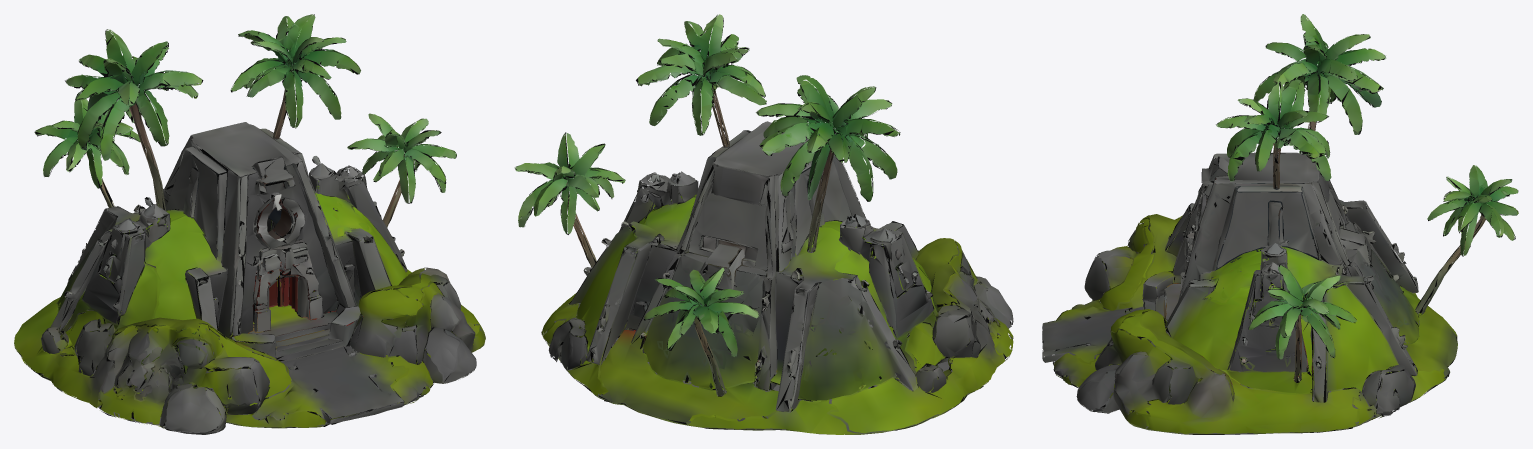
Rendered from pillio-observatory.hq.glb.
3 views of the same model, side by side, from view 1: azimuth 30°, elevation 25°; view 2: azimuth 150°, elevation 25°; view 3: azimuth 270°, elevation 25° (orthographic). The views are drawn at different scales.
Visible parts, largest first — view 1: low; view 2: low; view 3: low.
Boxes of the visible parts, box(x1,y1,x2,y2) form: low: box(14, 14, 485, 434); low: box(514, 14, 1013, 434); low: box(1042, 14, 1518, 434).
Size of the model in its own units: 0.9687 by 0.6488 by 1.
1 material, 1 textured.
